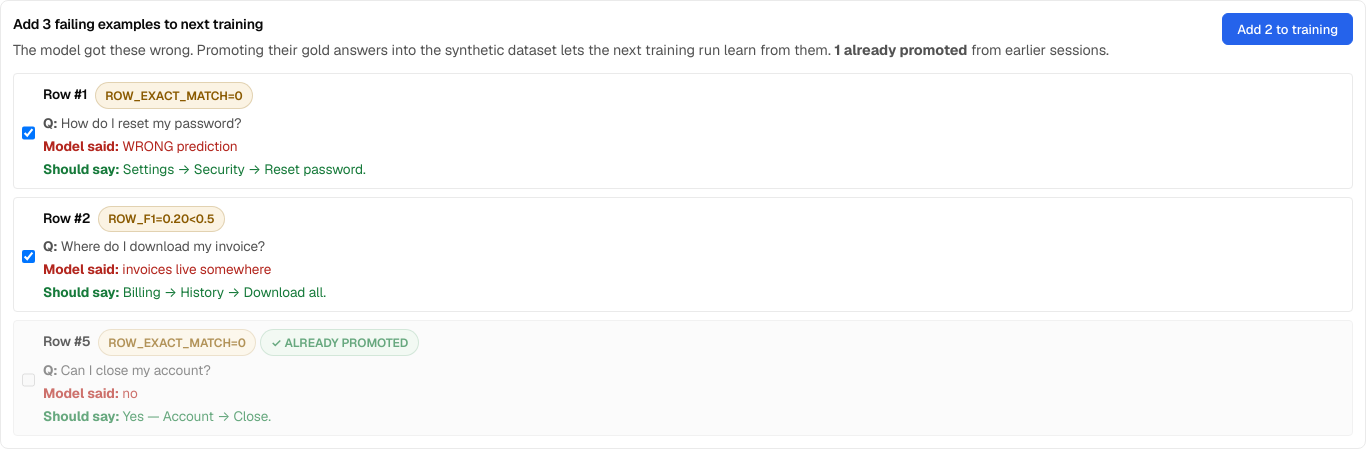
Test: ActiveLearningPanel › defaults selection to every actionable candidate and posts on Add click
The width and height of the screenshot is (1366, 466).
What coordinates should you click on to do the following:
click the button with test id "active-learning-promote"
I would click on:
 (1288, 29)
Its box is [1222, 13, 1353, 45].
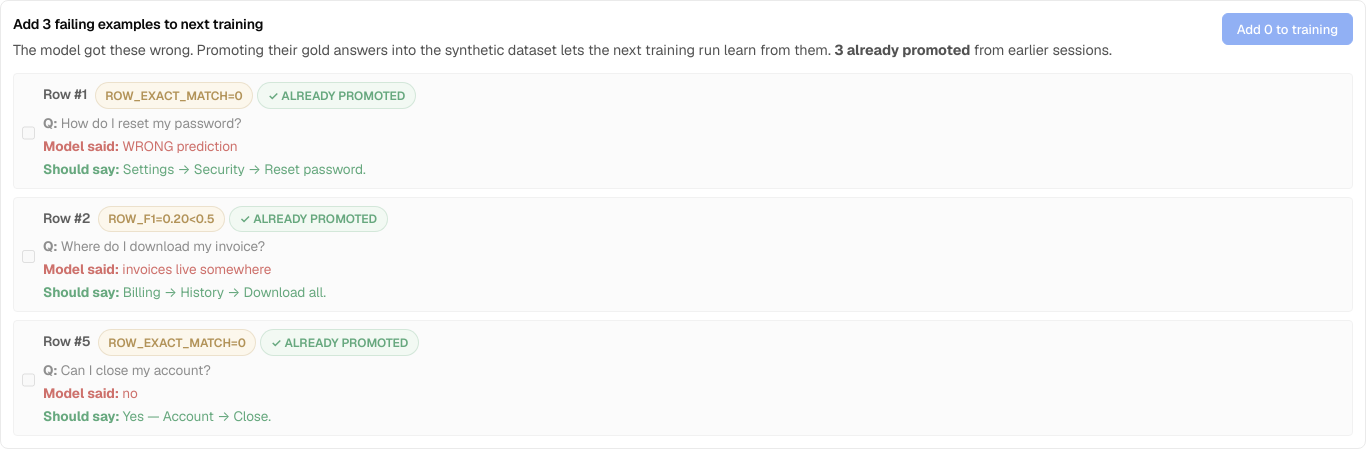
Expected: the text with test id "active-learning-row-1-promoted" is shown, [257, 82, 416, 109]
Expected: the text with test id "active-learning-row-2-promoted" is shown, [229, 206, 388, 232]
